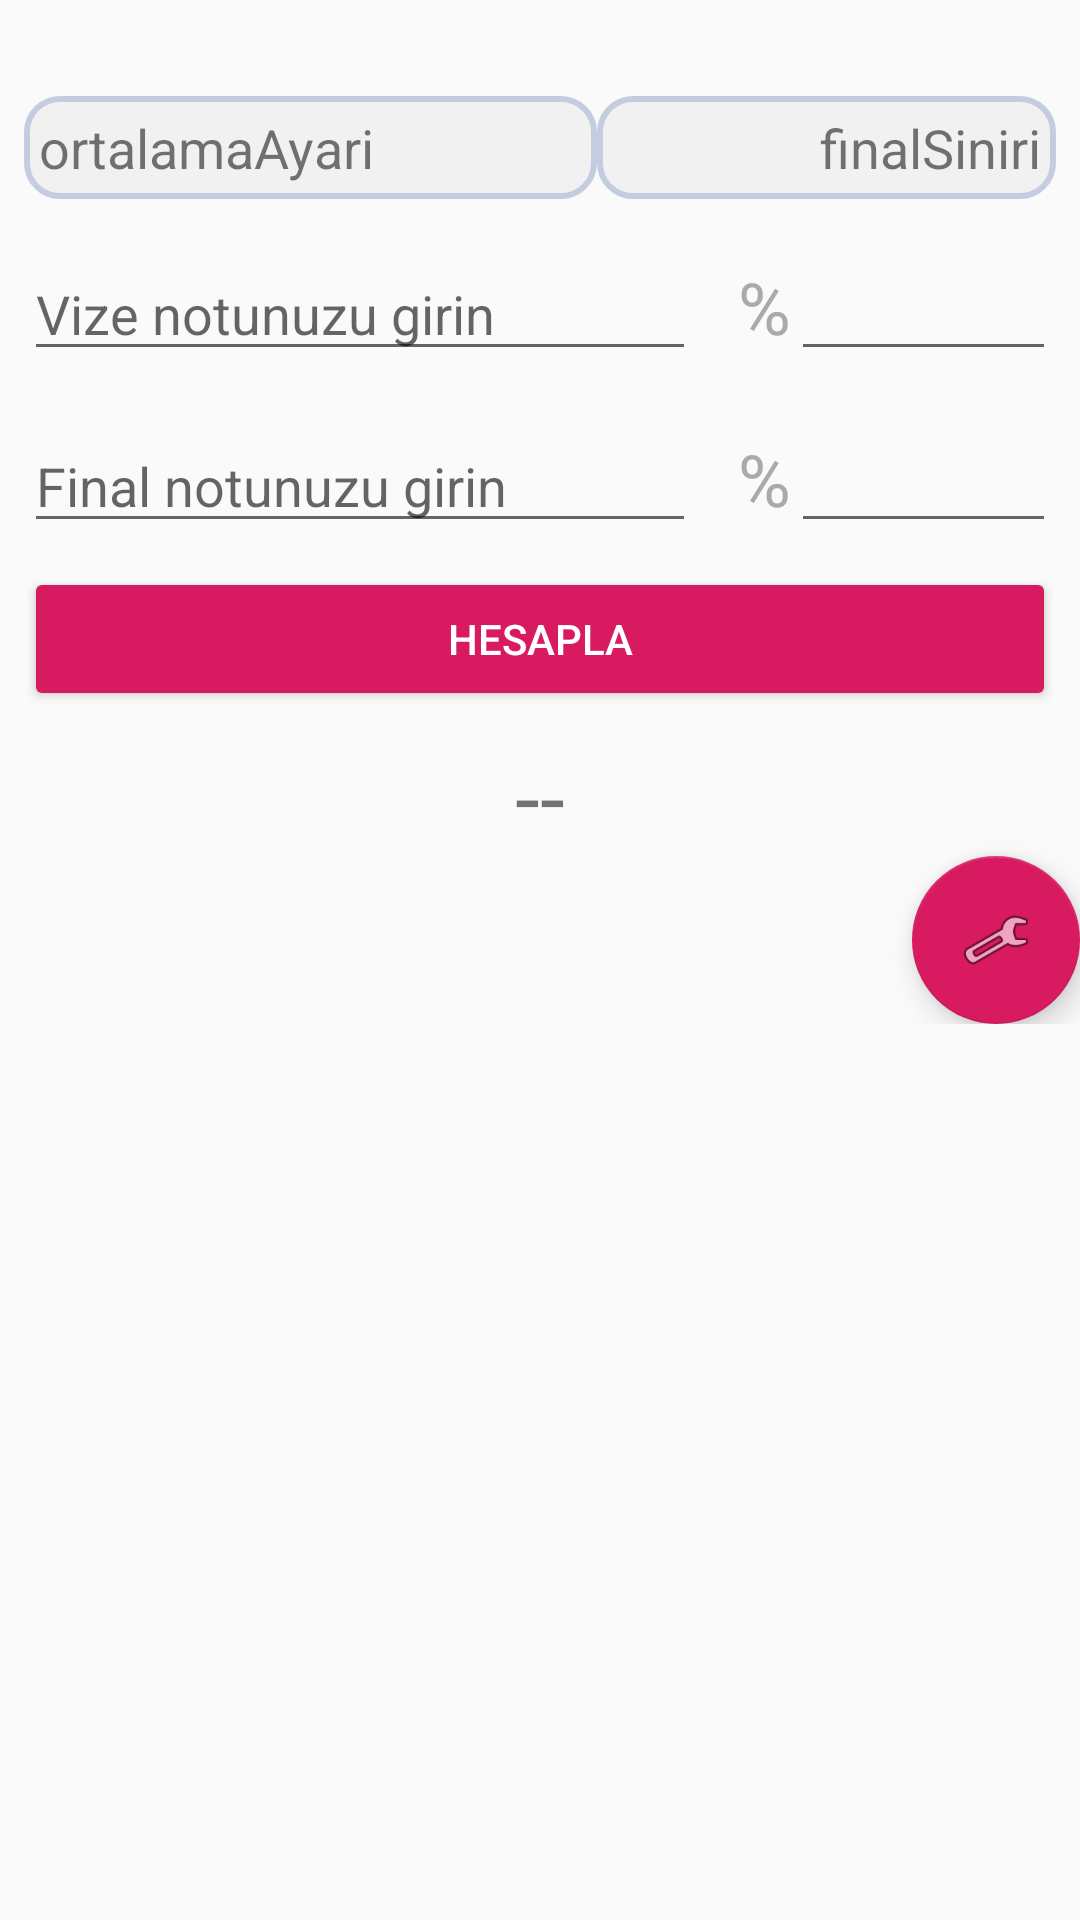

Where icons sit on this 1080px×1920px app screen, as (x1, y1, x2, y2):
preferences: (912, 856, 1080, 1024)
